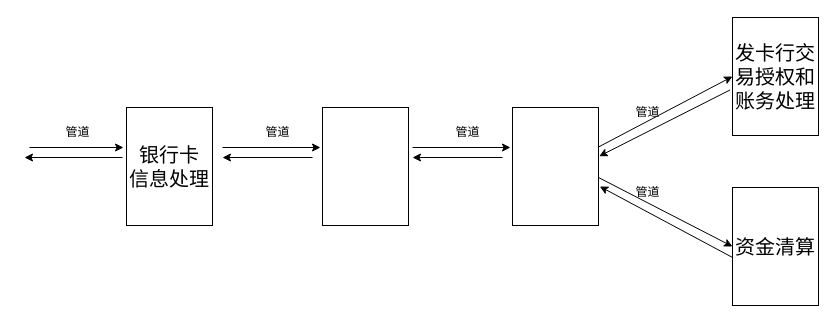
The diagram is 836 pixels wide and 323 high, and some of its shapes have lost their labels. The shapes that lost their labels are listed below. From the top down, each one's centre as x and y in pixels, then its label:
At point (365, 166): "代理行 账户处理".
At point (555, 166): "交易 数据分配".
